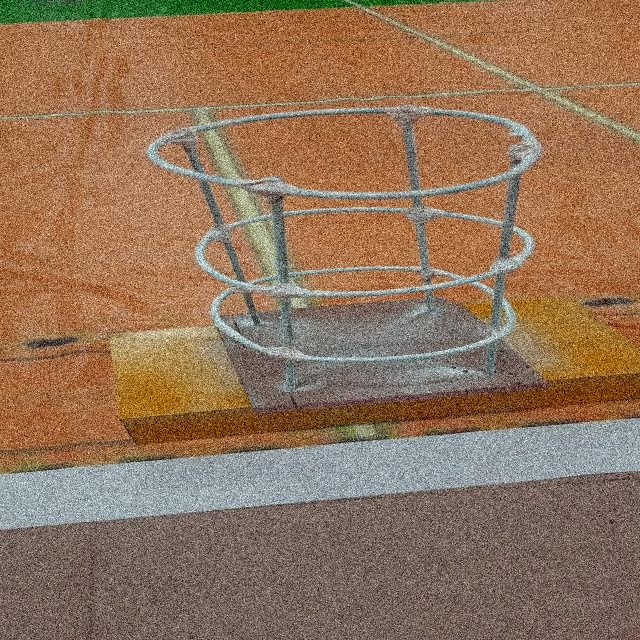silo: (106, 89, 574, 422)
